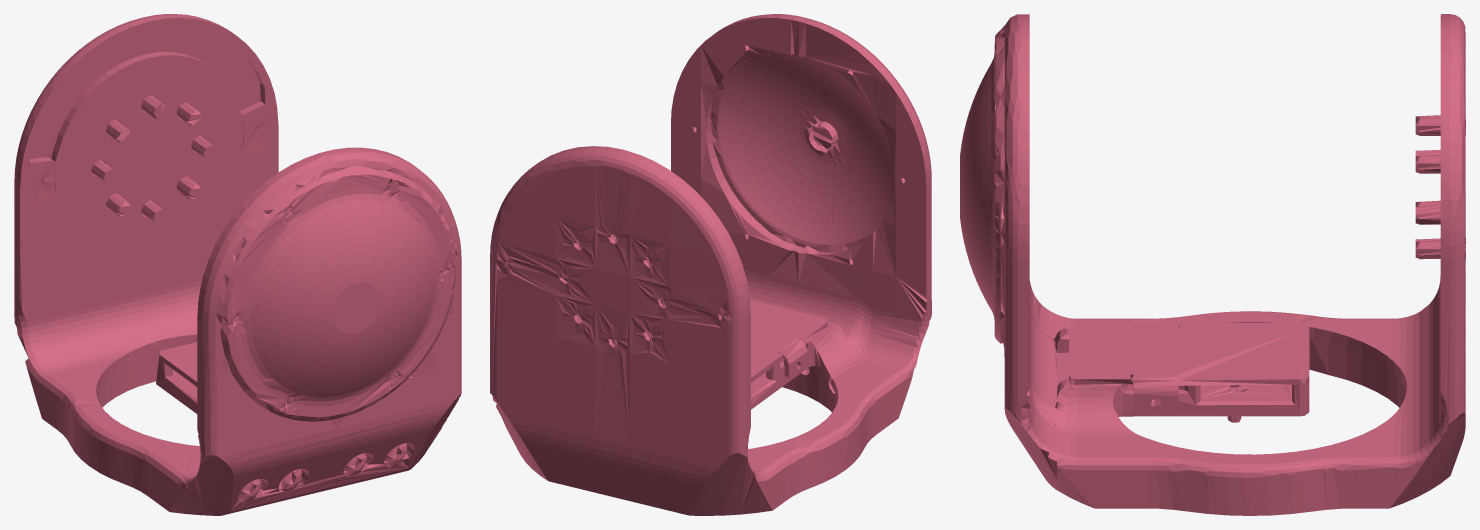
File: A2R3_RT4_elbow.dae
3 views of the same model, side by side, from view 1: azimuth 30°, elevation 25°; view 2: azimuth 150°, elevation 25°; view 3: azimuth 270°, elevation 25° (orthographic). The views are drawn at different scales.
Visible parts, largest first — view 1: A2R3_RT4_elbow; view 2: A2R3_RT4_elbow; view 3: A2R3_RT4_elbow.
Part boxes in pixels (bbox=[...]): A2R3_RT4_elbow: bbox=[14, 14, 461, 515]; A2R3_RT4_elbow: bbox=[490, 14, 931, 515]; A2R3_RT4_elbow: bbox=[960, 14, 1465, 515].
Size of the model in its own units: 0.077 by 0.1022 by 0.0904.
